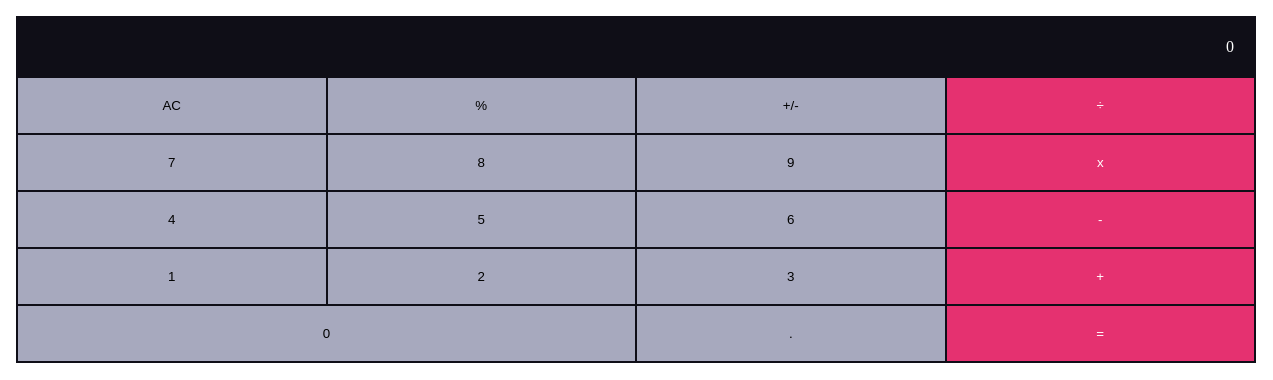
Test: Testing user interactions › Testing button clicks
The image size is (1273, 380).
Step 1. Click the button "7" → click(172, 162), box [17, 134, 326, 191]
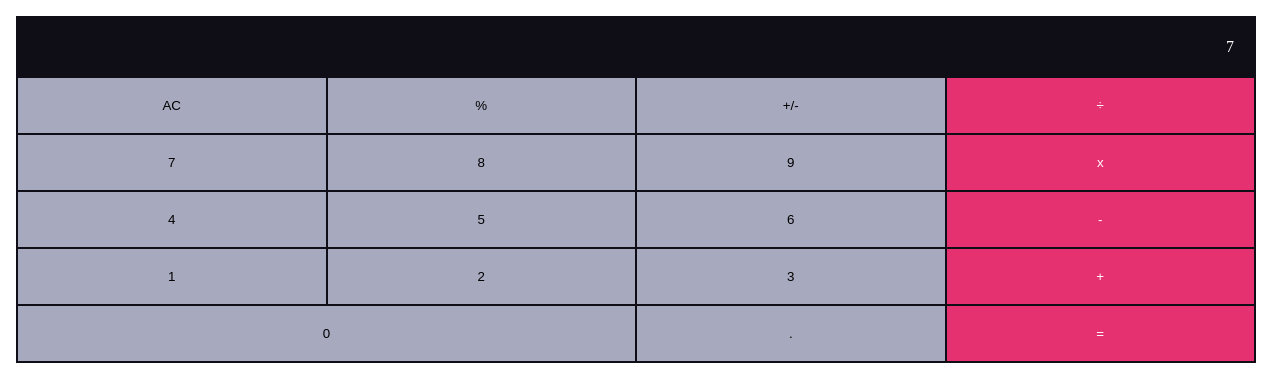
Check: the text with test id "calcScreen" reads "7", box [1226, 38, 1234, 55]
